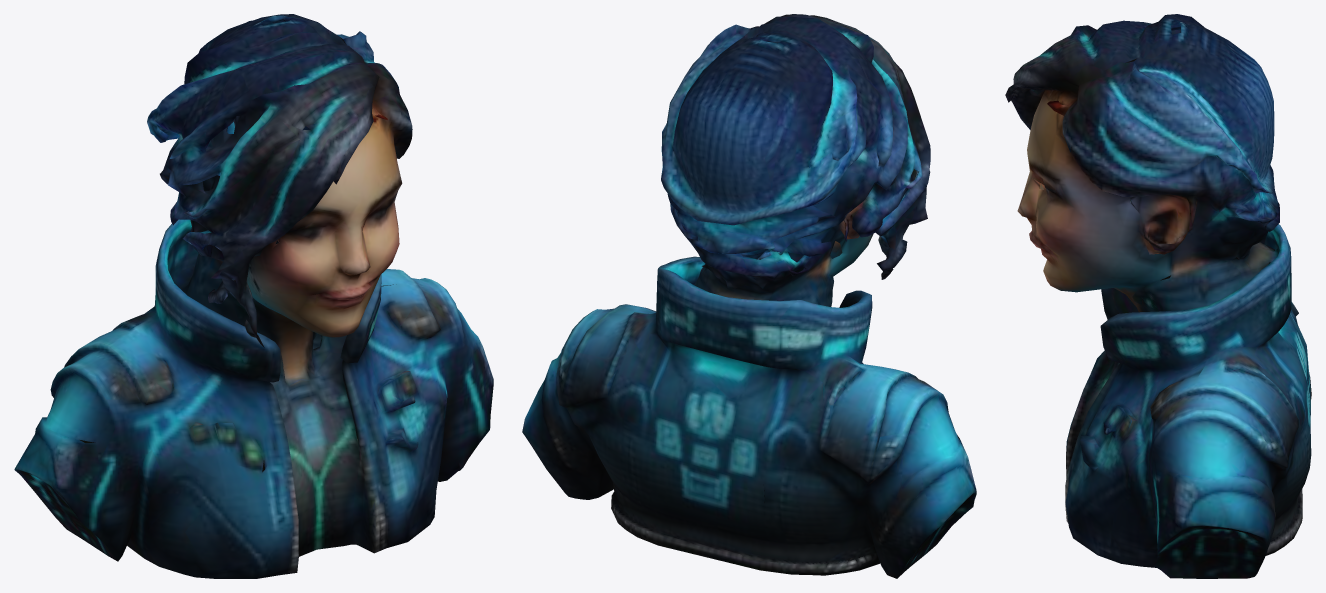
Rendered from modello.glb.
The picture shows the model from 3 angles, left to right: view 1: azimuth 30°, elevation 25°; view 2: azimuth 150°, elevation 25°; view 3: azimuth 270°, elevation 25°; orthographic projection. The views are drawn at different scales.
Visible parts, largest first — view 1: agente; view 2: agente; view 3: agente.
Part boxes in pixels (x1,y1,x2,y2): agente: (14, 14, 493, 578); agente: (522, 14, 976, 578); agente: (1005, 14, 1311, 578).
Bounding box in the file's own units: 0.9349 × 1 × 0.5824.
Materials: 1 (1 with a texture image).
